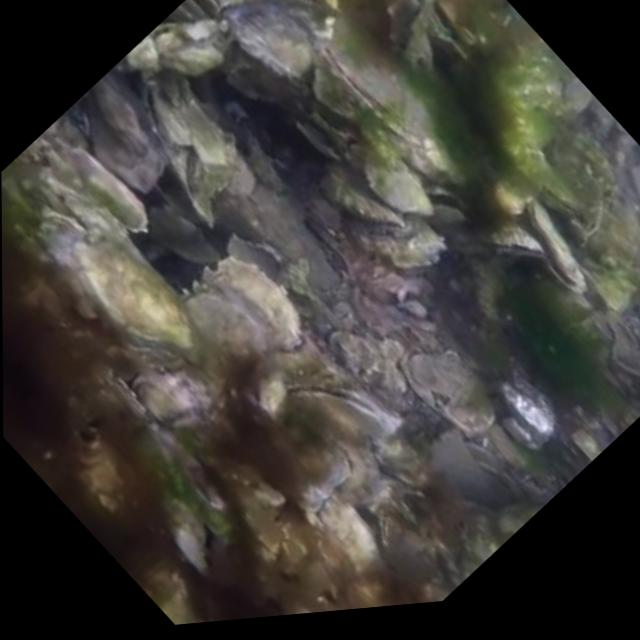Oyster-Closed: (395, 345, 495, 434), (183, 285, 272, 365), (286, 382, 380, 450), (322, 41, 406, 114), (65, 366, 147, 440), (529, 201, 589, 289), (296, 437, 356, 513), (151, 19, 228, 74), (474, 213, 548, 260), (142, 80, 193, 147), (544, 174, 579, 214), (43, 206, 87, 233), (379, 511, 398, 546)
Oyster-Indeterminate: (76, 242, 191, 346), (88, 69, 166, 192), (203, 257, 301, 353), (42, 148, 146, 232), (227, 2, 310, 75), (321, 161, 404, 228), (131, 369, 216, 431), (331, 333, 408, 399), (367, 148, 433, 215), (349, 212, 443, 257), (318, 500, 376, 572), (501, 373, 552, 446)
Oyster-Open: (137, 553, 216, 625), (425, 183, 467, 222)
